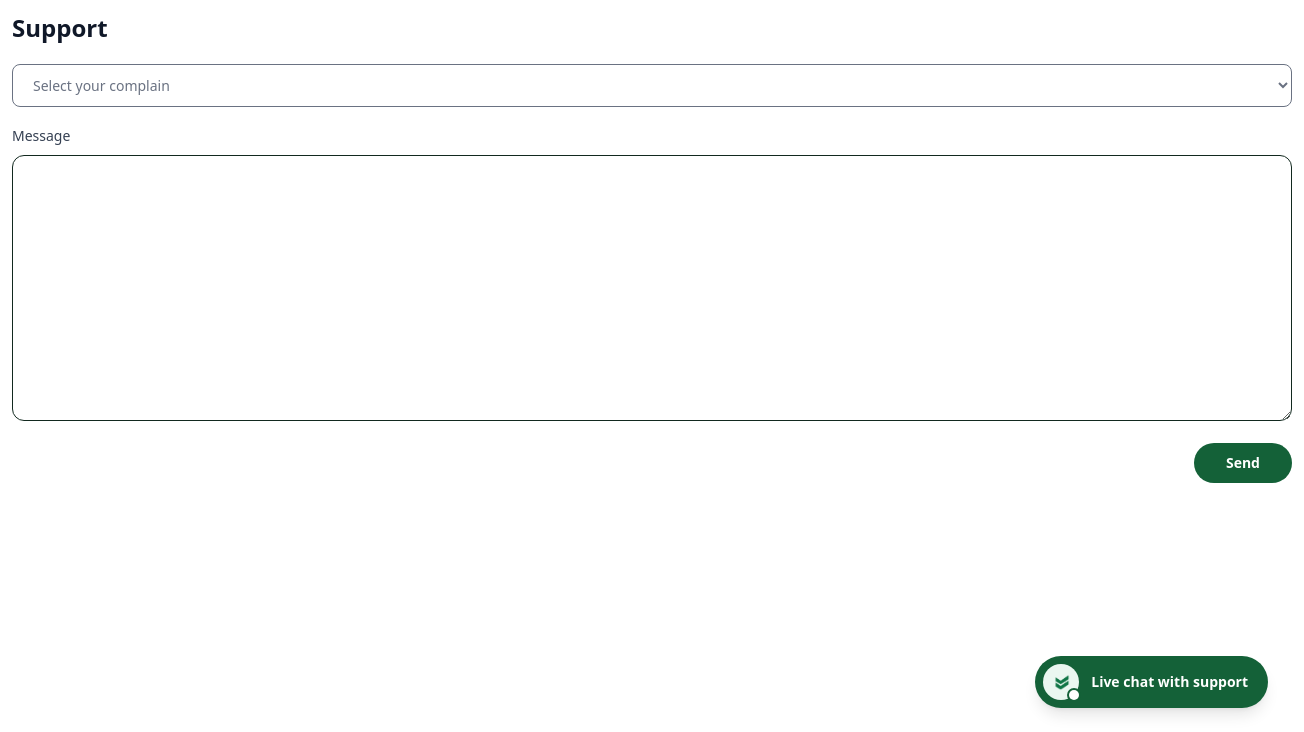
Test case: SupportPage live chat › shows the support logo on agent messages and the customer's own avatar on their messages
What coordinates should you click on to do the following:
click the button with aria-label "Open live chat"
I would click on:
 (1152, 682)
Its box is [1035,656,1268,708].
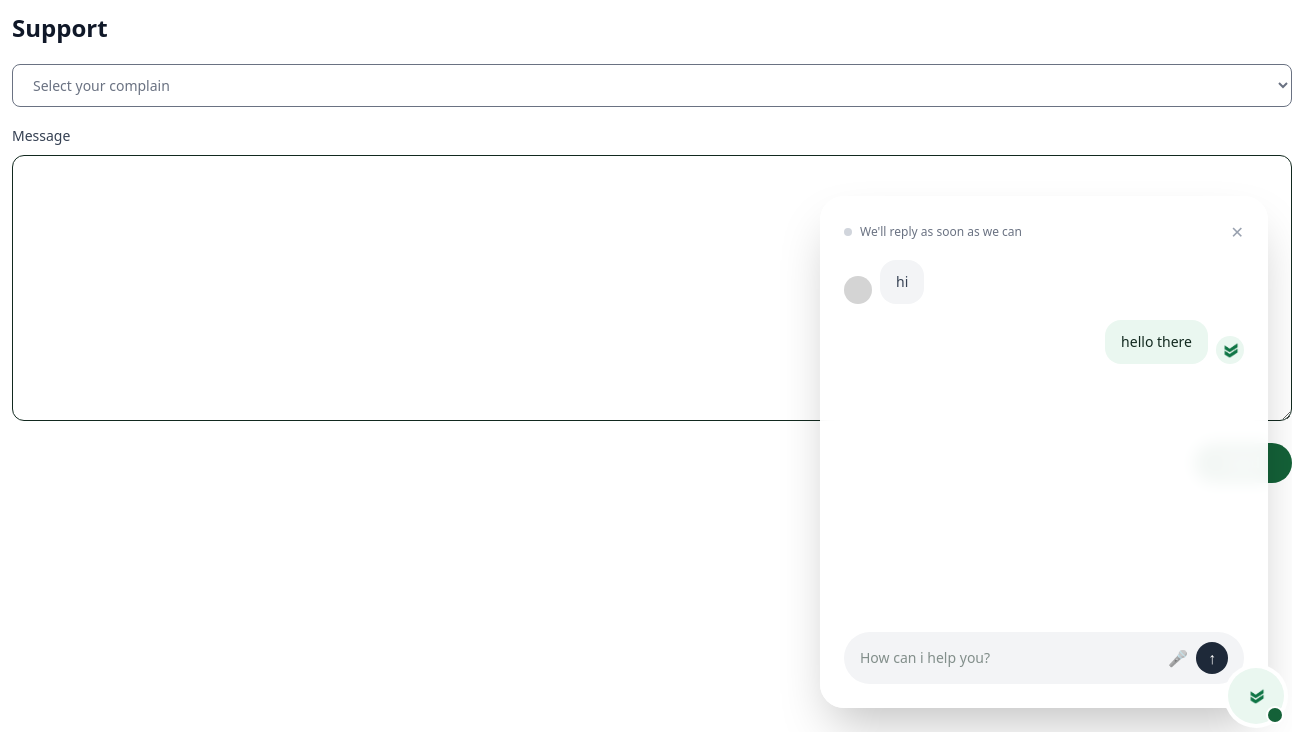
Check: the text "hello there" is shown, box [1105,320,1208,364]
